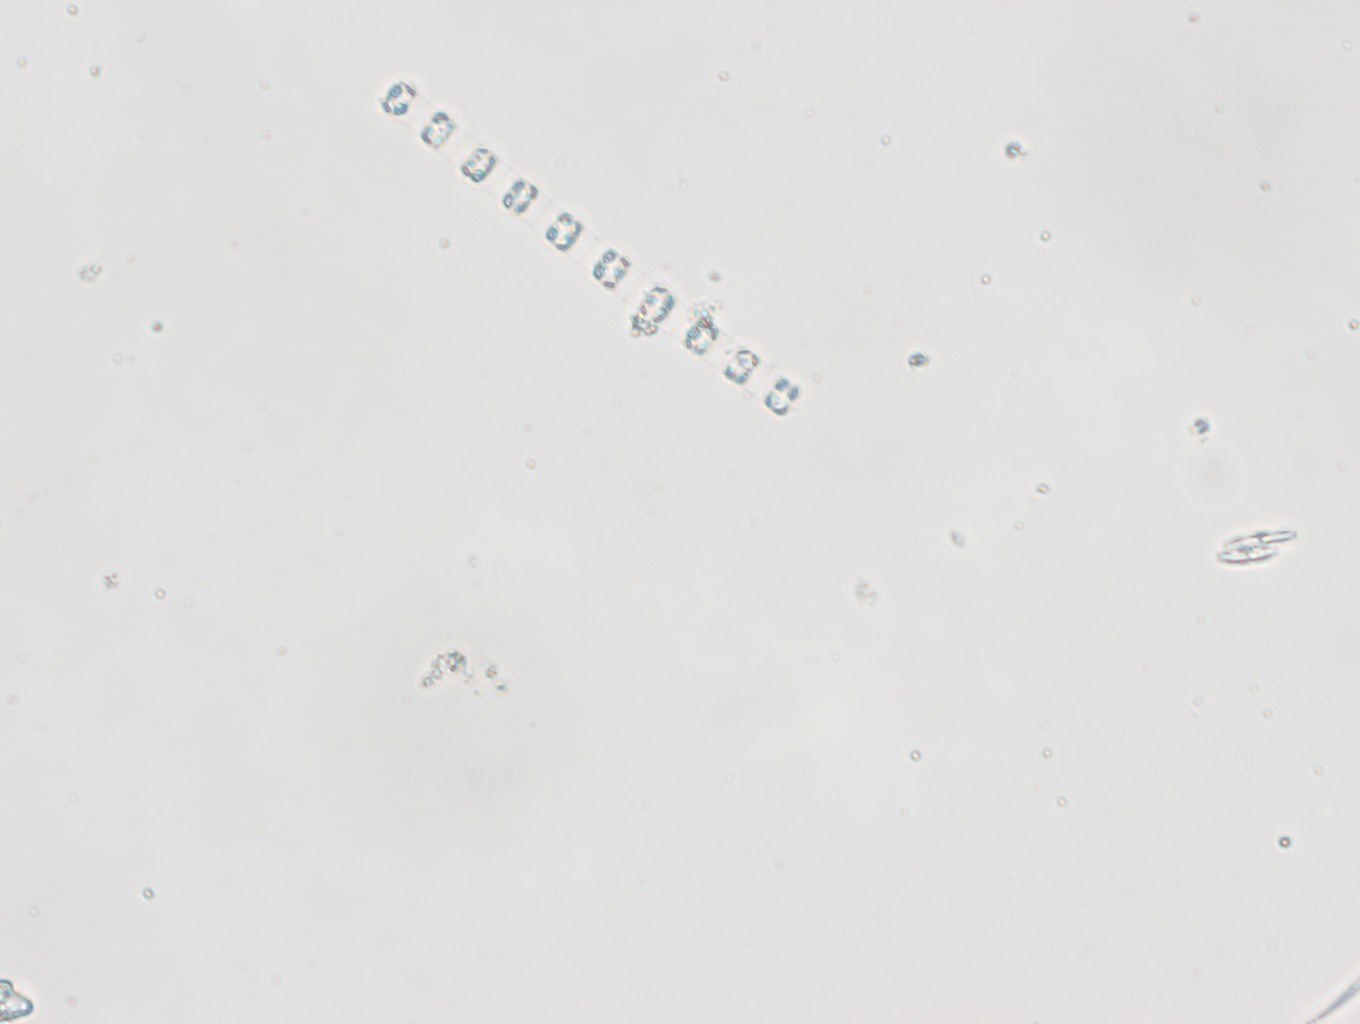skeletonema: (357, 67, 807, 432)
